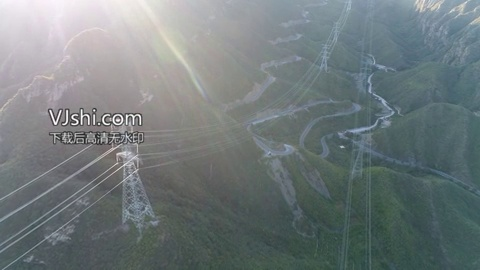tower_body: (114, 124, 161, 232), (321, 43, 331, 76)
tower_foot: (120, 203, 157, 229)
